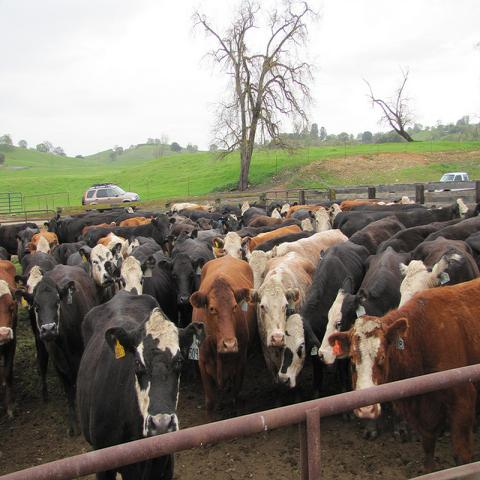car: (81, 182, 141, 206), (438, 172, 468, 182)
truck: (81, 180, 140, 206), (434, 173, 475, 192)
